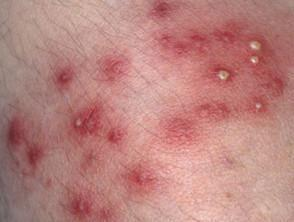folliculitis: (67, 106, 94, 141), (246, 37, 269, 70), (212, 64, 237, 88), (252, 99, 267, 115)
papular: (4, 114, 48, 173), (97, 54, 131, 83), (130, 164, 159, 188), (52, 66, 80, 89), (70, 192, 96, 216)
